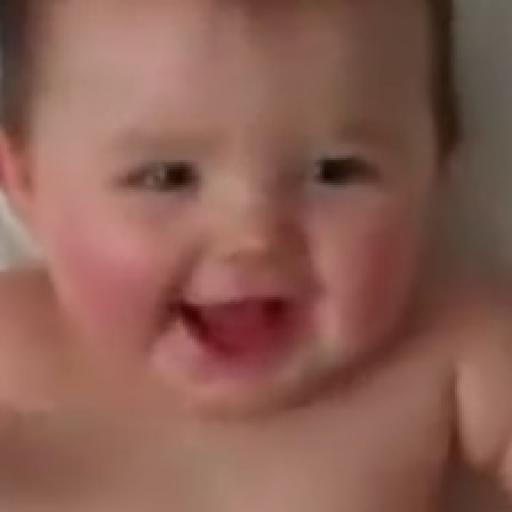Autism: (32, 8, 458, 442)
